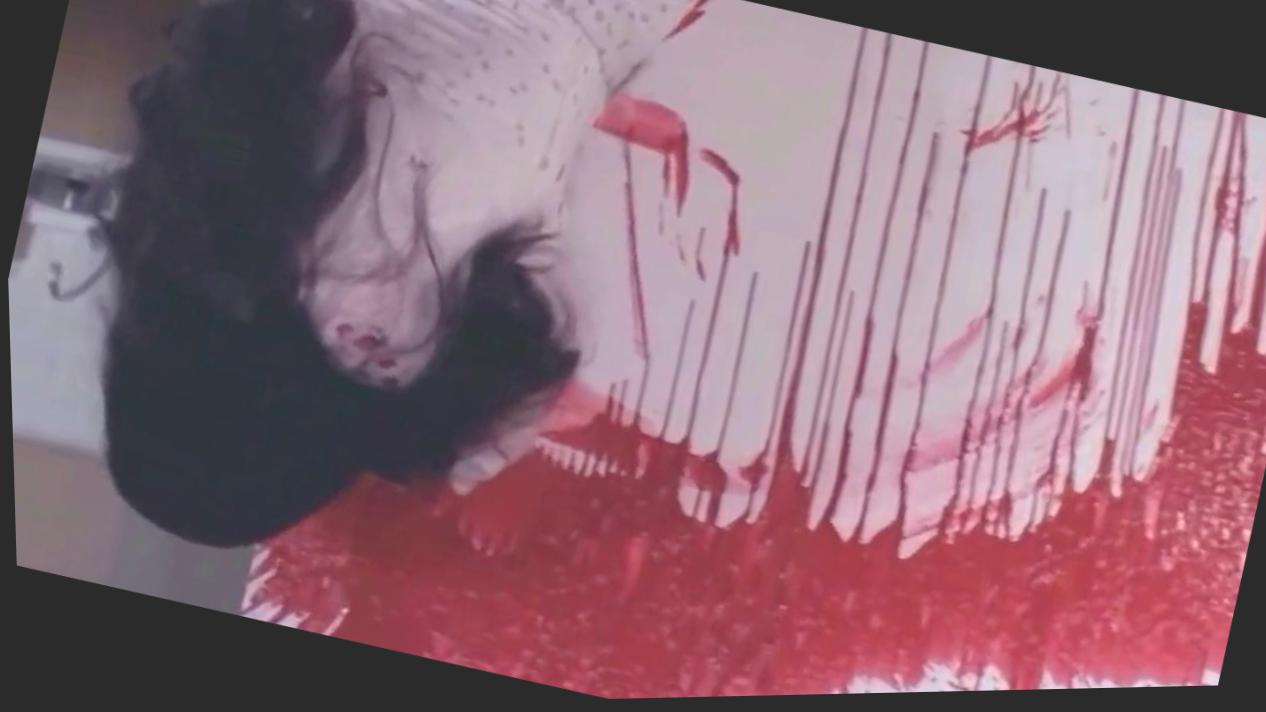Fire: (238, 0, 1266, 702)
